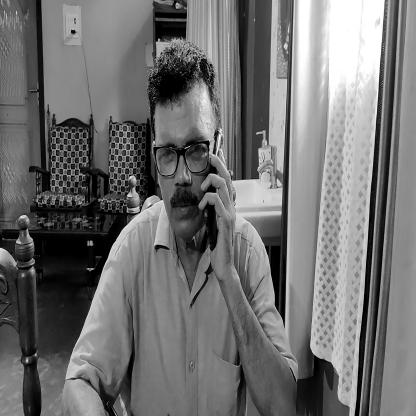Normal: (149, 50, 219, 244)
